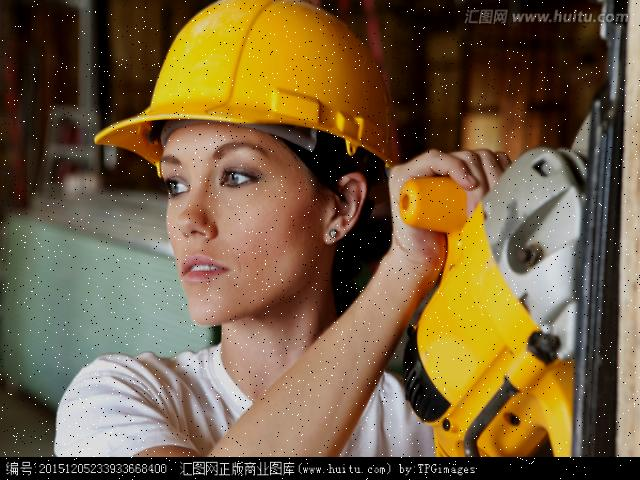Helmet: (87, 0, 412, 185)
